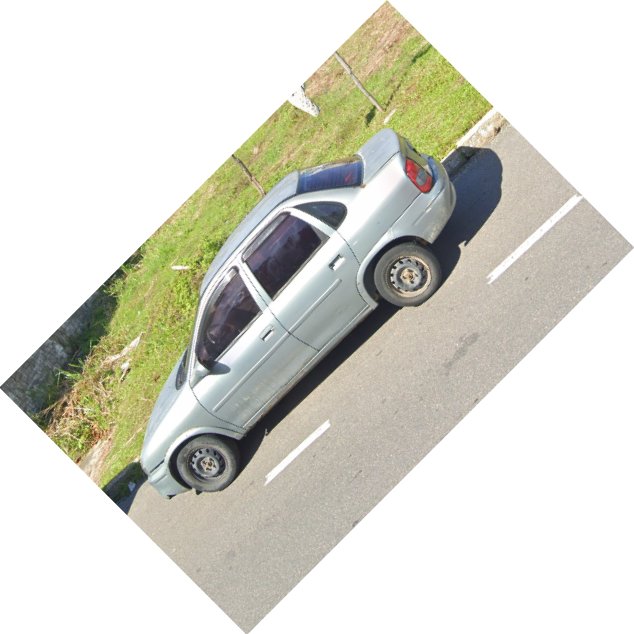car: (134, 124, 458, 502)
